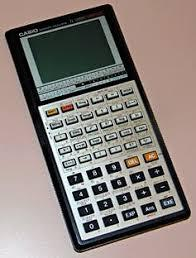Calculator: (4, 1, 193, 258)
